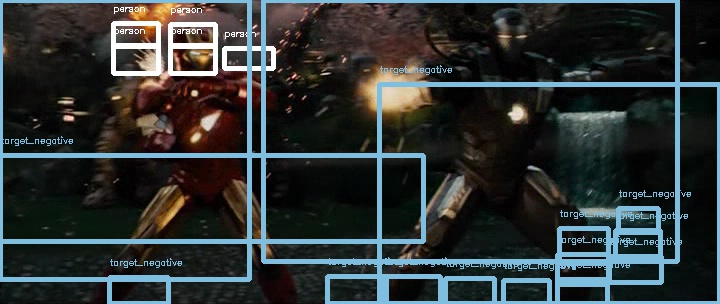person: (170, 25, 217, 80), (169, 25, 216, 80), (171, 25, 218, 80), (170, 24, 217, 79), (170, 26, 217, 81)
target_negative: (374, 193, 601, 282), (113, 257, 625, 290), (600, 136, 643, 202), (580, 268, 659, 292), (231, 250, 673, 254), (341, 223, 440, 226)
